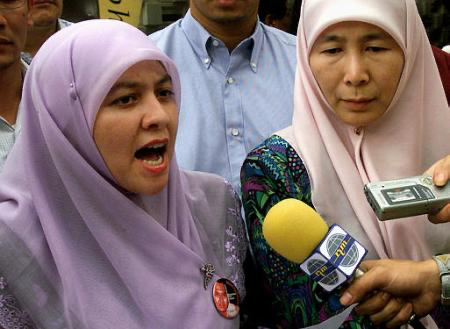Face: (91, 60, 186, 195), (304, 20, 415, 124)
